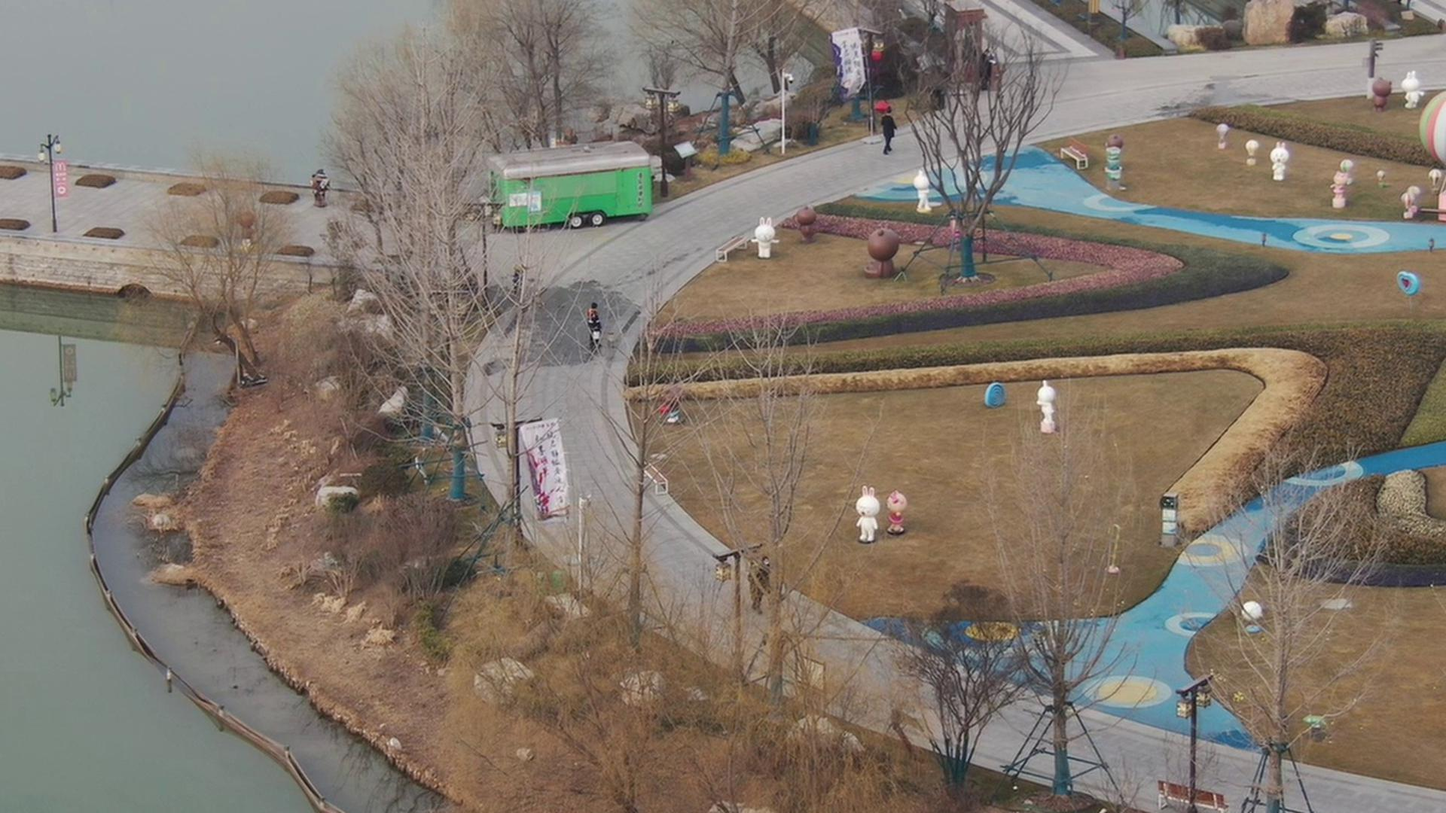class_2: (746, 551, 781, 623)
human: (580, 299, 602, 356), (877, 104, 898, 162)
